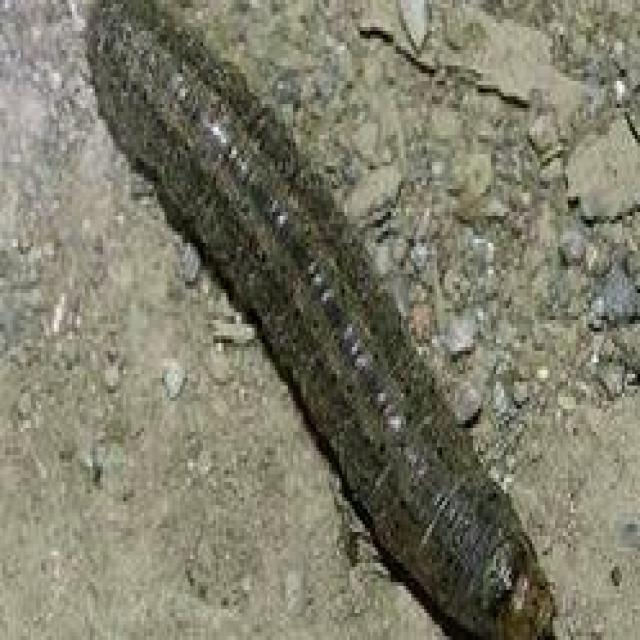black cutworm: (69, 1, 576, 637)
